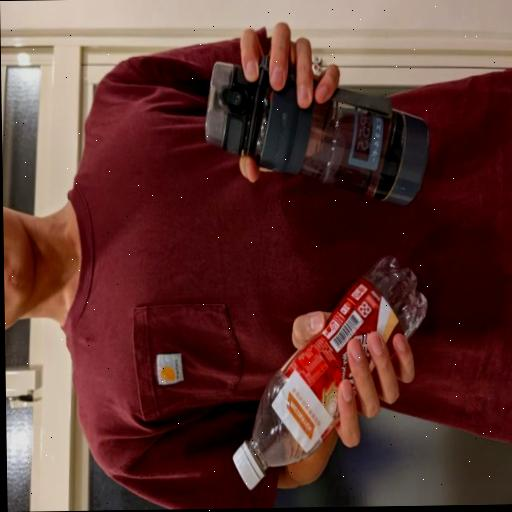bottle: (201, 238, 451, 502), (191, 24, 446, 228)
